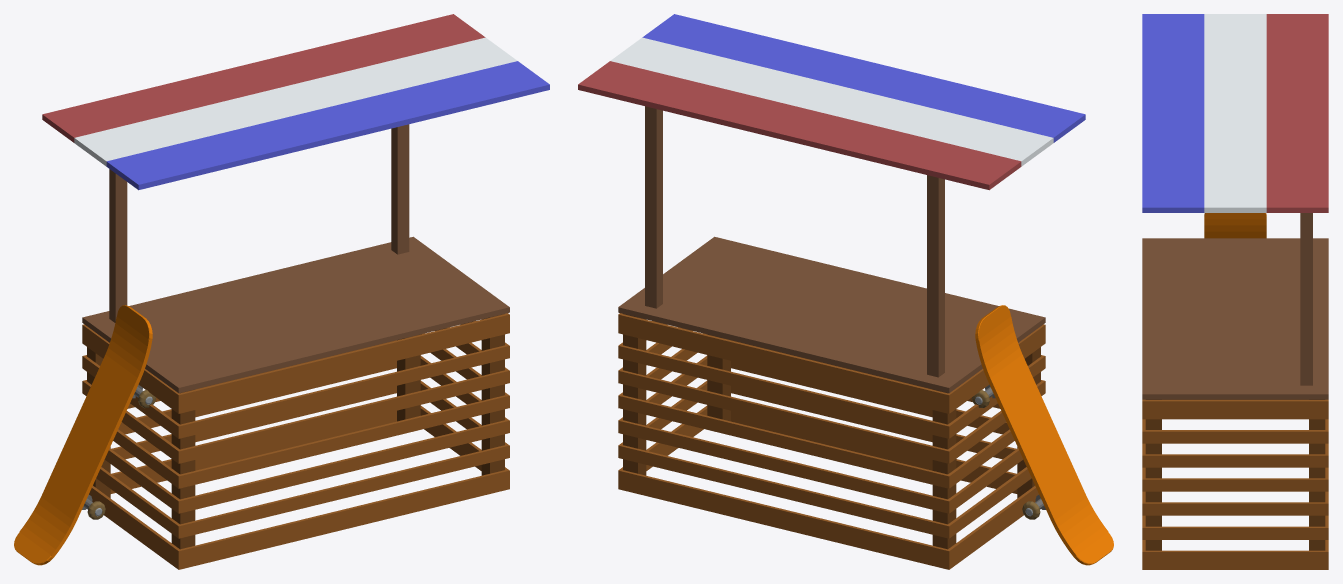
Rendered from stall_board_fix.fbx.
The picture shows the model from 3 angles, left to right: view 1: azimuth 30°, elevation 25°; view 2: azimuth 150°, elevation 25°; view 3: azimuth 270°, elevation 25°; orthographic projection. The views are drawn at different scales.
Parts seen in each view (by area): view 1: Cube, Cube.002, Cube.001, Plane.002, Plane.001, Plane, Cylinder; view 2: Cube, Cube.002, Cube.001, Plane.002, Plane.001, Plane, Cylinder; view 3: Cube.002, Cube.001, Cube, Plane, Plane.001, Plane.002.
Boxes of the visible parts, x1,y1,x2,y2 form: Cube: (82, 313, 509, 569); Cube.002: (42, 14, 549, 190); Cube.001: (82, 236, 509, 393); Plane.002: (14, 305, 152, 565); Plane.001: (109, 124, 409, 322); Plane: (87, 314, 504, 549); Cylinder: (82, 384, 155, 519); Cube: (618, 313, 1045, 569); Cube.002: (578, 14, 1085, 190); Cube.001: (618, 236, 1045, 393); Plane.002: (975, 305, 1113, 565); Plane.001: (645, 106, 944, 377); Plane: (623, 314, 1040, 549); Cylinder: (972, 384, 1045, 519); Cube.002: (1142, 14, 1328, 212); Cube.001: (1142, 238, 1328, 399); Cube: (1142, 399, 1328, 569); Plane: (1145, 399, 1325, 550); Plane.001: (1300, 213, 1312, 385); Plane.002: (1204, 213, 1266, 238).
Size of the model in its own units: 572 by 452 by 200.
